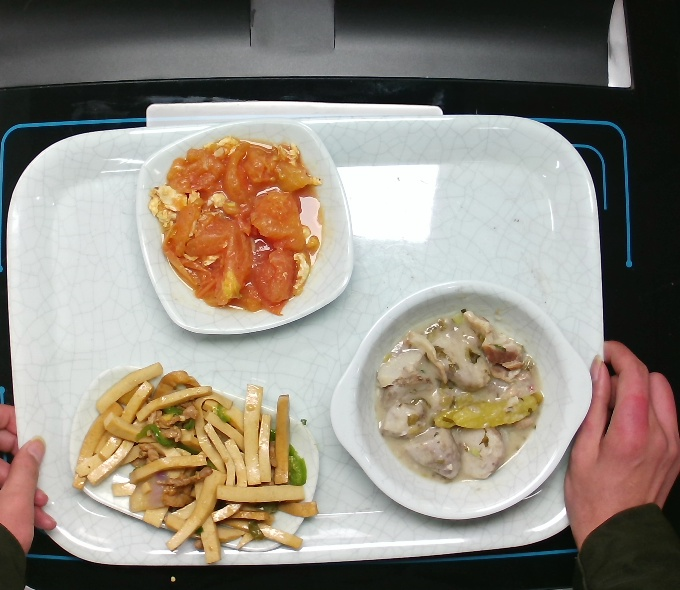wcq-FanQieChaoDan: (144, 131, 330, 323)
wcq-QianYeDouFu: (63, 358, 324, 569)
wcq-YangYu: (371, 306, 549, 487)
